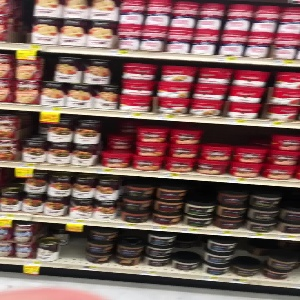void: (63, 221, 85, 268)
